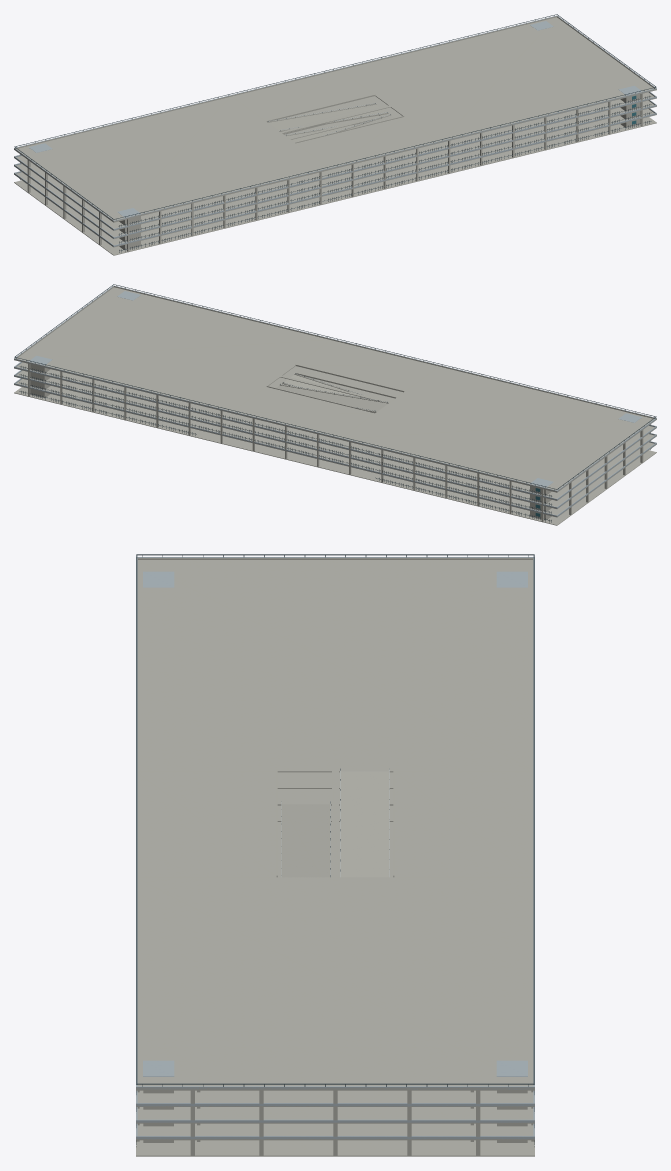
File: TNG_parking_garage.glb
The picture shows the model from 3 angles, top to bottom: view 1: azimuth 30°, elevation 25°; view 2: azimuth 150°, elevation 25°; view 3: azimuth 270°, elevation 25°; orthographic projection. The views are drawn at different scales.
Parts seen in each view (by area): view 1: TNG_parking_garage; view 2: TNG_parking_garage; view 3: TNG_parking_garage.
Part boxes in pixels (x1,y1,x2,y2): TNG_parking_garage: (14, 14, 656, 255); TNG_parking_garage: (14, 284, 656, 525); TNG_parking_garage: (136, 554, 534, 1156).
Bounding box in the file's own units: 220 × 14 × 70.
5 materials, 5 textured.
